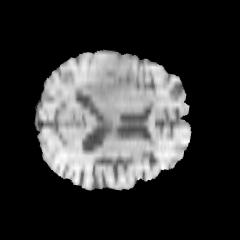glioma: (80, 58, 131, 99)
